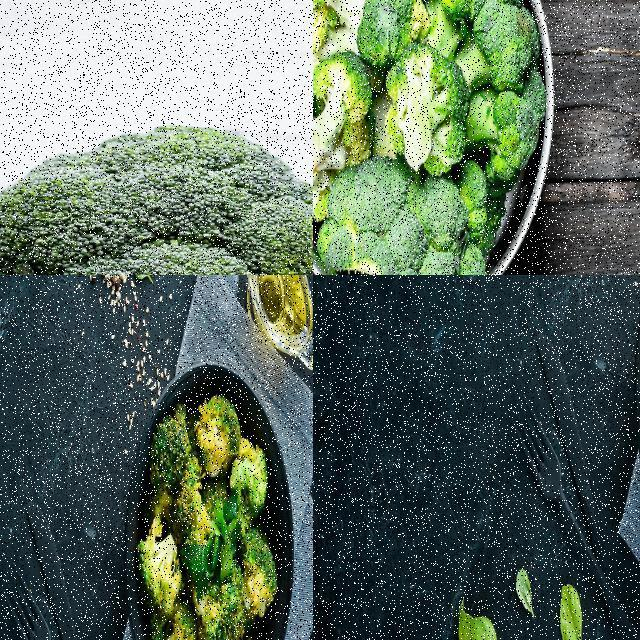broccoli: (0, 124, 312, 274), (420, 0, 550, 181), (384, 40, 473, 176), (313, 0, 384, 100), (313, 52, 371, 166), (132, 524, 184, 626), (190, 391, 246, 484), (359, 0, 437, 66), (145, 406, 193, 499), (235, 526, 279, 623), (202, 559, 251, 639), (227, 450, 266, 510), (158, 604, 197, 639)
